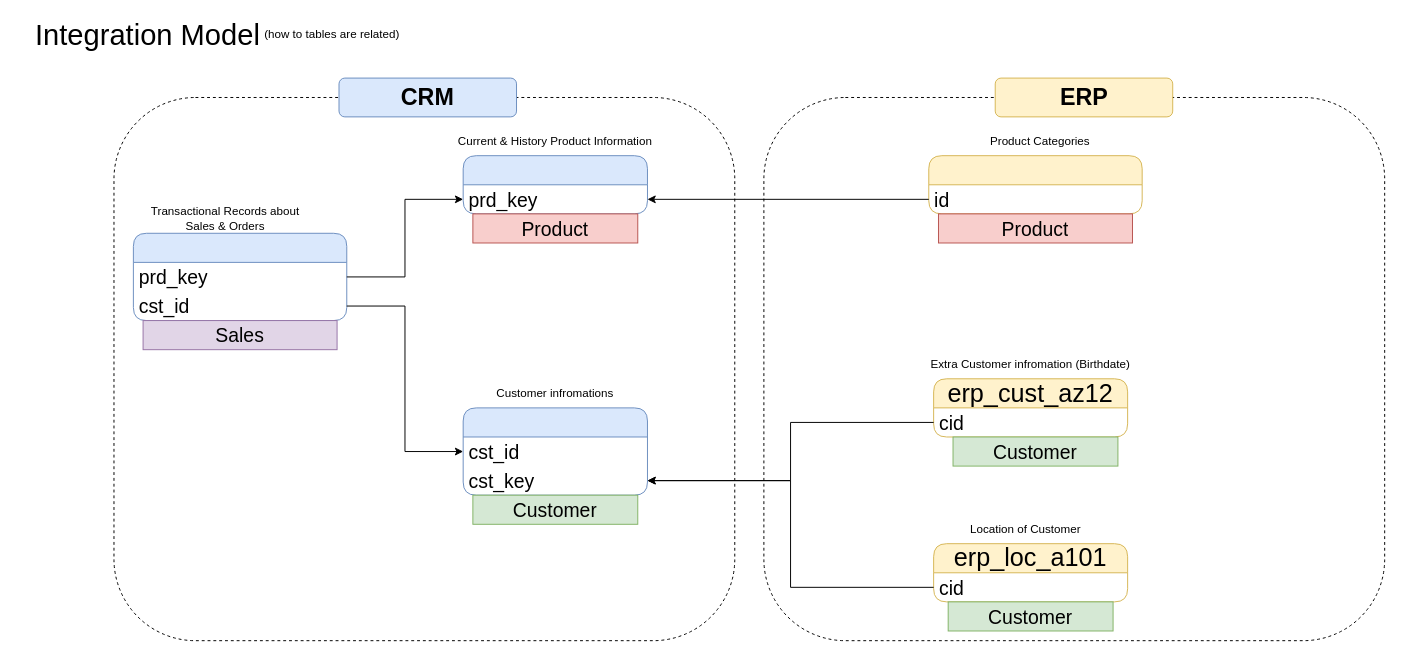
The diagram is 1402 pixels wide and 658 high, and some of its shapes have lost their labels. The shapes that lost their labels are listed below. From the top down, each one's box as (x1, y1, x2, y2) in pixels, then its label:
(462, 155, 647, 214): crm_prd _info
(928, 155, 1142, 214): erp_px_cat_g1v2
(132, 232, 347, 321): crm_sales_details
(462, 407, 647, 495): crm_cust_info
